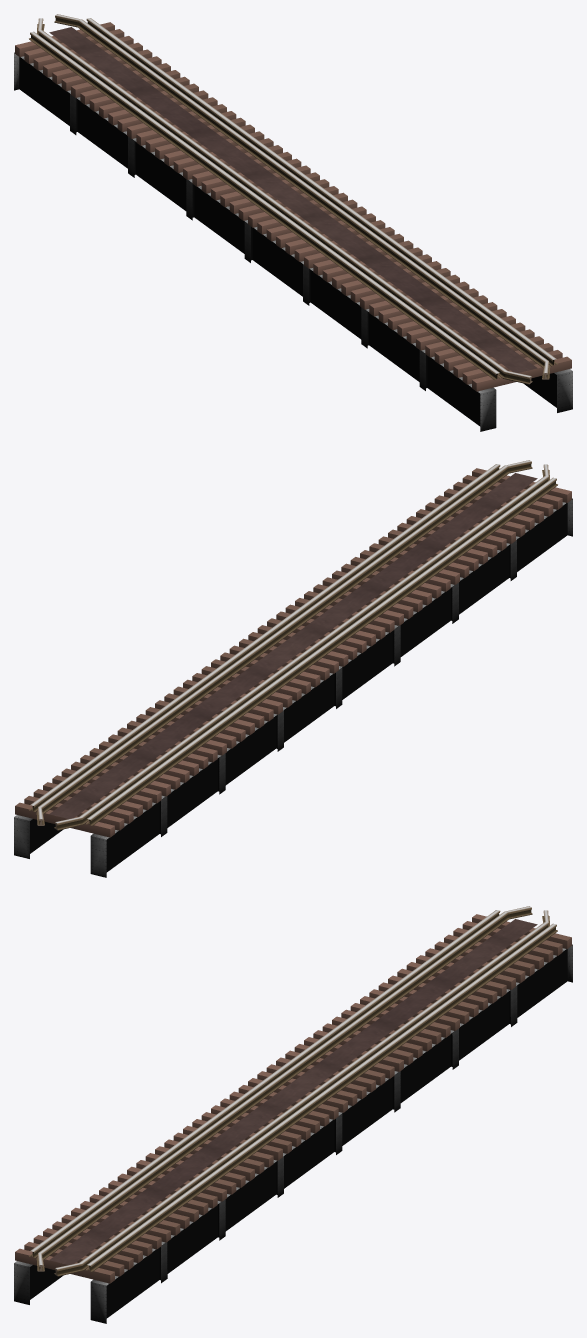
Rendered from SIN_1RAIL_BRIDGE50_NOBANISTER.glb.
3 renders of one model, top to bottom at view 1: azimuth 30°, elevation 25°; view 2: azimuth 150°, elevation 25°; view 3: azimuth 330°, elevation 25°, orthographic.
Visible parts, largest first — view 1: obj16, obj4, obj10, obj8, bone0, obj12, obj9, obj5, obj11; view 2: obj16, bone0, obj8, obj10, obj5, obj12, obj4, obj11, obj9; view 3: obj16, obj4, obj10, obj8, obj11, bone0, obj12, obj5, obj9.
Boxes of the visible parts, <box> form: obj16: <box>14,18,572,431</box>; obj4: <box>425,322,571,391</box>; obj10: <box>360,274,515,350</box>; obj8: <box>127,104,282,179</box>; bone0: <box>15,22,161,91</box>; obj12: <box>71,63,217,132</box>; obj9: <box>248,192,394,261</box>; obj5: <box>304,233,450,302</box>; obj11: <box>192,152,338,220</box>; obj16: <box>14,464,572,877</box>; bone0: <box>15,768,161,837</box>; obj8: <box>127,679,282,755</box>; obj10: <box>360,509,515,584</box>; obj5: <box>304,557,450,625</box>; obj12: <box>71,727,217,796</box>; obj4: <box>425,468,571,537</box>; obj11: <box>192,638,338,707</box>; obj9: <box>248,598,394,666</box>; obj16: <box>14,910,572,1323</box>; obj4: <box>15,1214,161,1283</box>; obj10: <box>71,1166,226,1242</box>; obj8: <box>304,996,459,1071</box>; obj11: <box>248,1044,394,1112</box>; bone0: <box>425,914,571,983</box>; obj12: <box>369,955,515,1024</box>; obj5: <box>136,1125,282,1194</box>; obj9: <box>192,1085,338,1153</box>.
Size of the model in its own units: 5.9 by 3.21 by 52.7.
16 materials, 13 textured.
